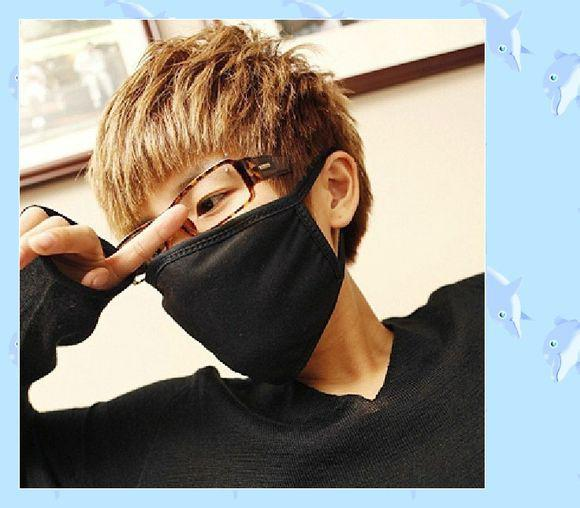OK: (137, 159, 349, 374)
